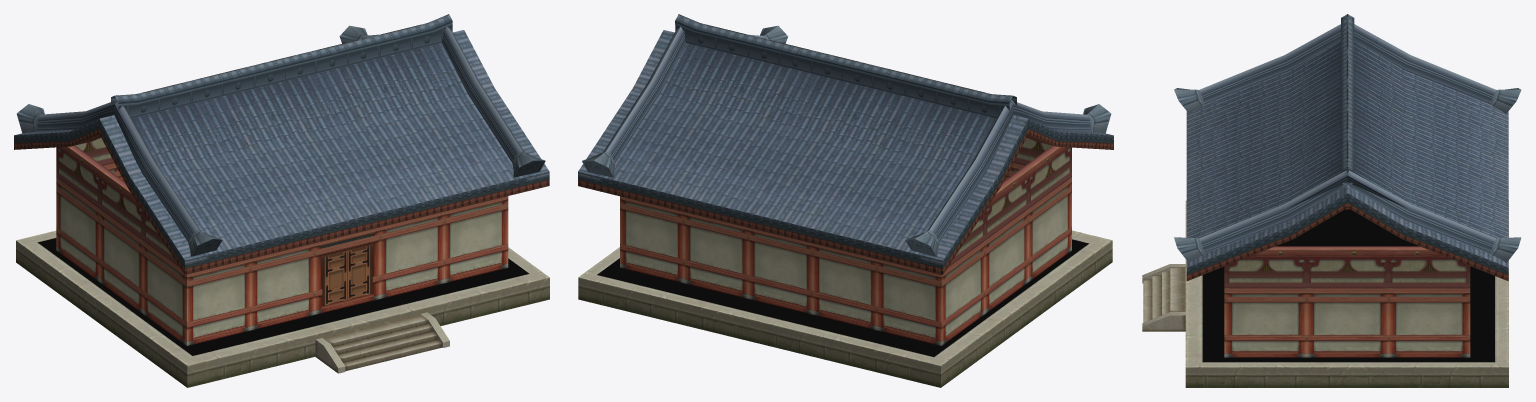
3 renders of one model, left to right at view 1: azimuth 30°, elevation 25°; view 2: azimuth 150°, elevation 25°; view 3: azimuth 270°, elevation 25°, orthographic. The views are drawn at different scales.
Parts seen in each view (by area): view 1: gujian_428, gujian_431, gujian_427, gujian_425, gujian_424, gujian_423, gujian_429, gujian_430; view 2: gujian_428, gujian_431, gujian_425, gujian_427, gujian_424, gujian_430; view 3: gujian_428, gujian_431, gujian_427, gujian_425, gujian_424, gujian_430, gujian_423.
Part boxes in pixels (<box>): gujian_428: <box>14,30,549,274</box>; gujian_431: <box>56,163,508,345</box>; gujian_427: <box>16,14,545,256</box>; gujian_425: <box>16,230,549,387</box>; gujian_424: <box>38,238,529,355</box>; gujian_423: <box>315,312,449,373</box>; gujian_429: <box>315,227,379,314</box>; gujian_430: <box>56,138,179,267</box>; gujian_428: <box>578,30,1113,274</box>; gujian_431: <box>620,163,1071,345</box>; gujian_425: <box>578,230,1112,387</box>; gujian_427: <box>582,14,1111,256</box>; gujian_424: <box>597,239,1088,356</box>; gujian_430: <box>948,138,1071,267</box>; gujian_428: <box>1186,41,1508,281</box>; gujian_431: <box>1224,208,1470,357</box>; gujian_427: <box>1174,14,1521,262</box>; gujian_425: <box>1185,200,1508,387</box>; gujian_424: <box>1202,209,1494,362</box>; gujian_430: <box>1224,257,1470,288</box>; gujian_423: <box>1142,264,1185,331</box>.
Bounding box in the file's own units: 1.46 × 0.8684 × 1.4.
8 materials, 8 textured.
